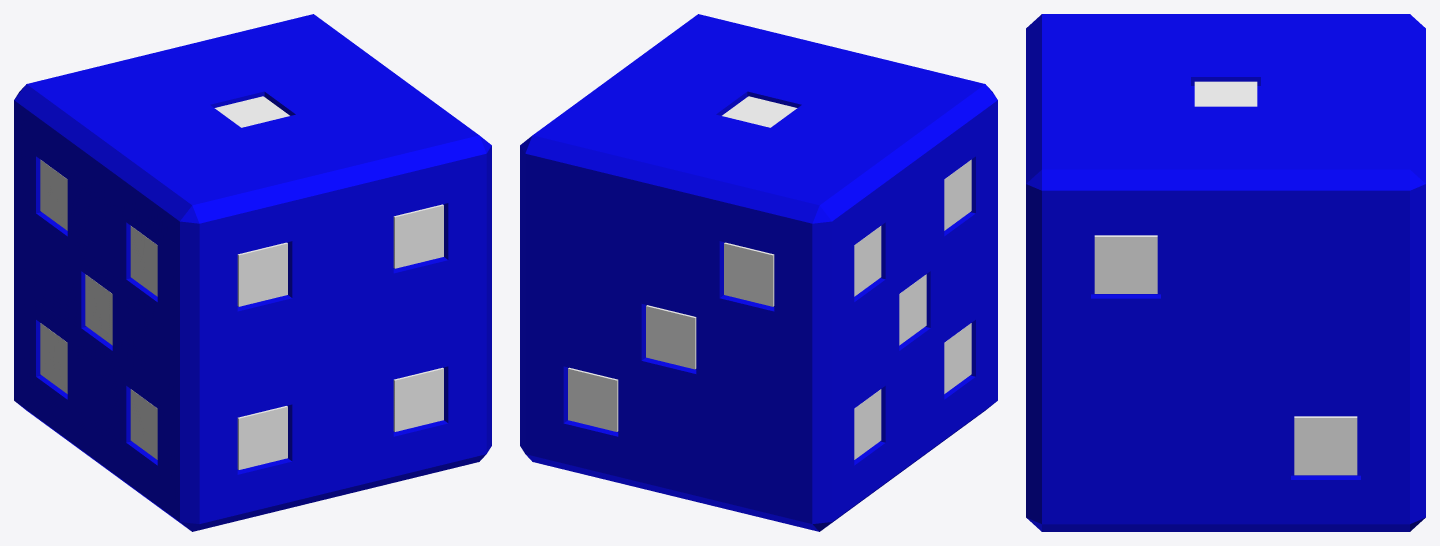
Rendered from 0_dice_blue.gltf.
3 renders of one model, left to right at view 1: azimuth 30°, elevation 25°; view 2: azimuth 150°, elevation 25°; view 3: azimuth 270°, elevation 25°, orthographic. The views are drawn at different scales.
Visible parts, largest first — view 1: D6_Dice_Blue; view 2: D6_Dice_Blue; view 3: D6_Dice_Blue.
Boxes of the visible parts, x1,y1,x2,y2 form: D6_Dice_Blue: (14, 14, 491, 531); D6_Dice_Blue: (520, 14, 997, 531); D6_Dice_Blue: (1026, 14, 1425, 531).
Bounding box in the file's own units: 2 × 2 × 2.
